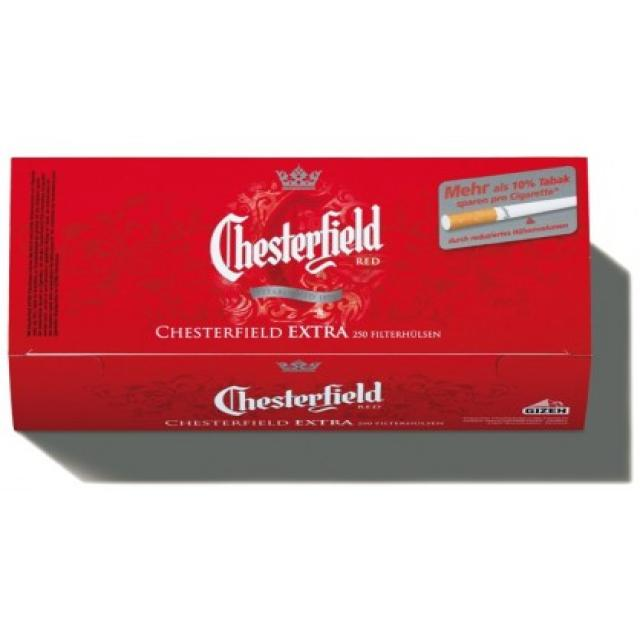chesterfield: (8, 154, 593, 437)
